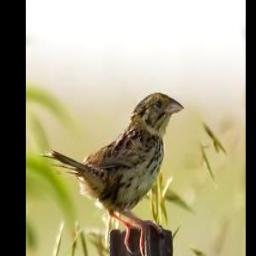Sparrow: (38, 90, 186, 256)
